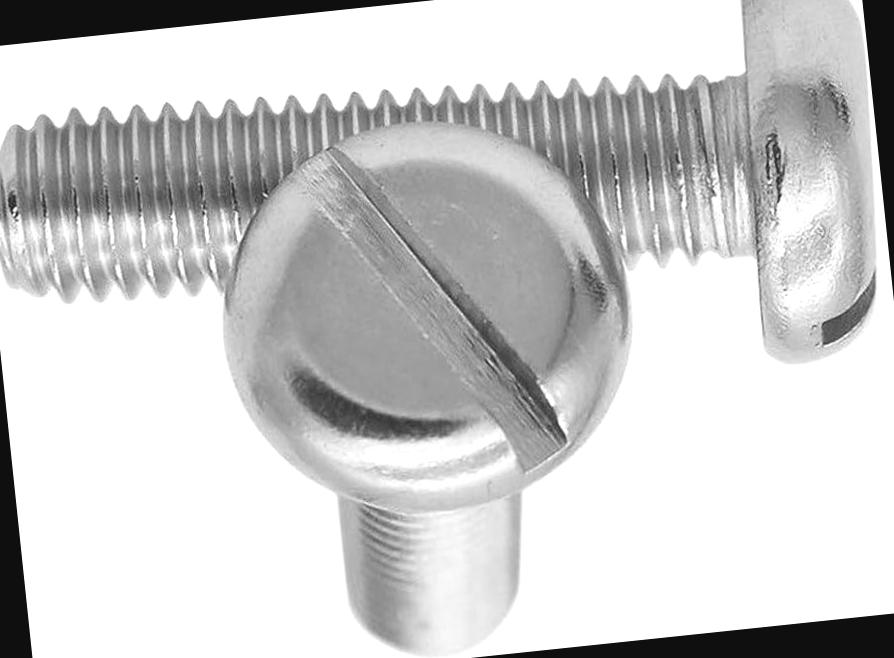slotted: (205, 100, 650, 518)
